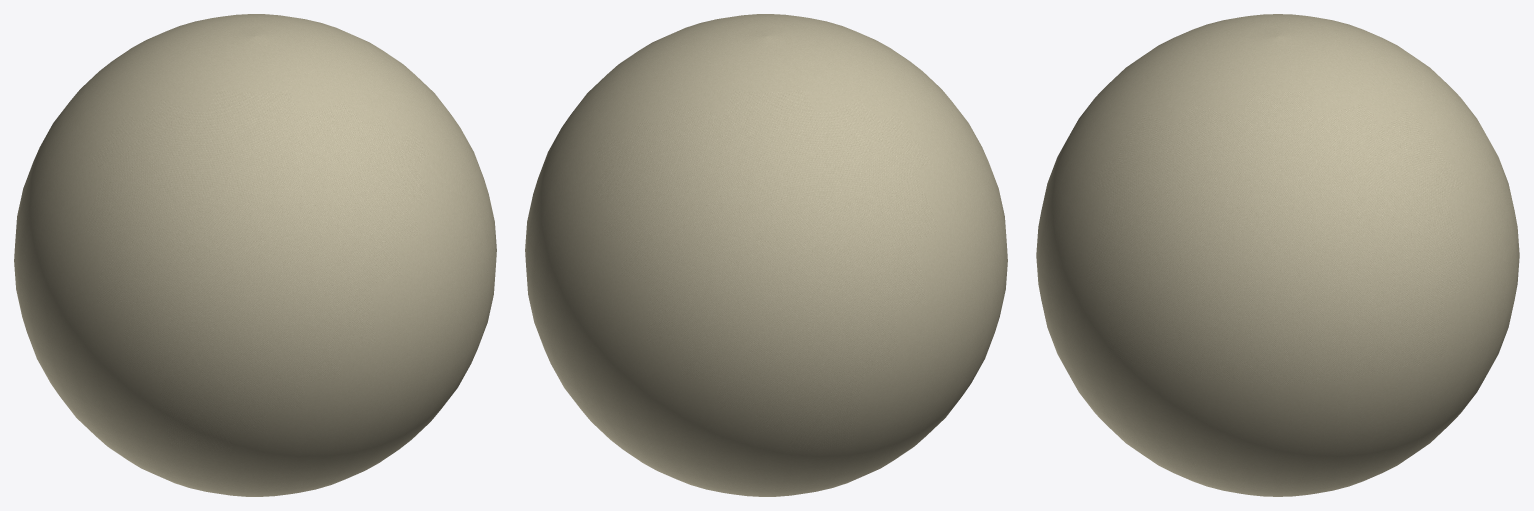
The model's file is prichal_optimized.glb.
3 renders of one model, left to right at view 1: azimuth 30°, elevation 25°; view 2: azimuth 150°, elevation 25°; view 3: azimuth 270°, elevation 25°, orthographic.
Visible parts, largest first — view 1: prichal_interior; view 2: prichal_interior; view 3: prichal_interior.
Part boxes in pixels (x1,y1,x2,y2): prichal_interior: (14, 14, 496, 496); prichal_interior: (525, 14, 1007, 496); prichal_interior: (1036, 14, 1519, 496).
Bounding box in the file's own units: 3.46 × 3.46 × 3.46.
6 materials, 1 textured.
